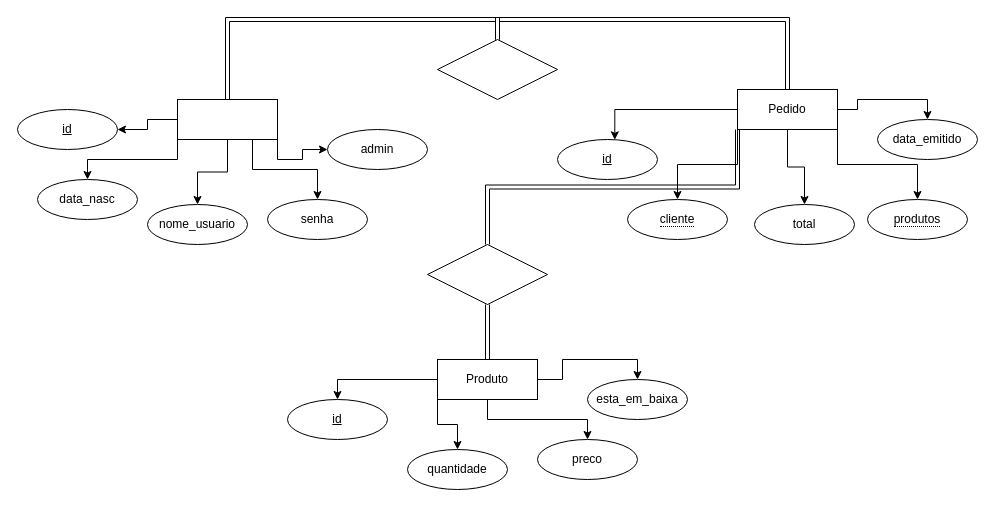
Image size: 995x507. Some labels were removed from this diagram. The shapes that lost their labels are listed below. From the top down, each one's box as (x1, y1, x2, y2) in pixels, then its label:
(436, 38, 558, 100): emitido por
(176, 98, 278, 140): Usuario
(426, 244, 548, 304): comprados
